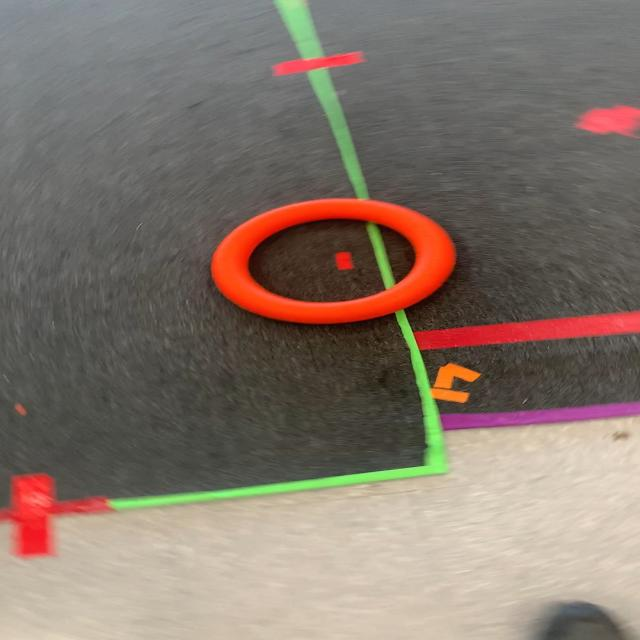notes: (200, 196, 462, 328)
